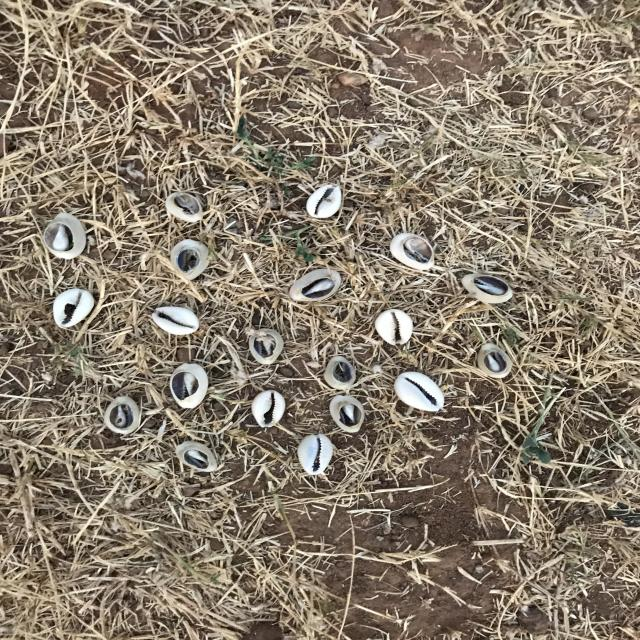facedown: (40, 208, 86, 264), (168, 360, 210, 413), (460, 270, 518, 307), (289, 265, 344, 304), (167, 238, 213, 283), (388, 232, 439, 270), (470, 342, 519, 381), (102, 395, 142, 438), (174, 441, 223, 476), (248, 324, 284, 370), (328, 394, 369, 434), (318, 352, 358, 390), (164, 191, 206, 225)
faceup: (392, 369, 448, 413), (49, 288, 97, 331), (295, 432, 337, 476), (371, 306, 417, 346), (149, 303, 203, 337), (304, 178, 344, 221), (249, 388, 288, 430)
